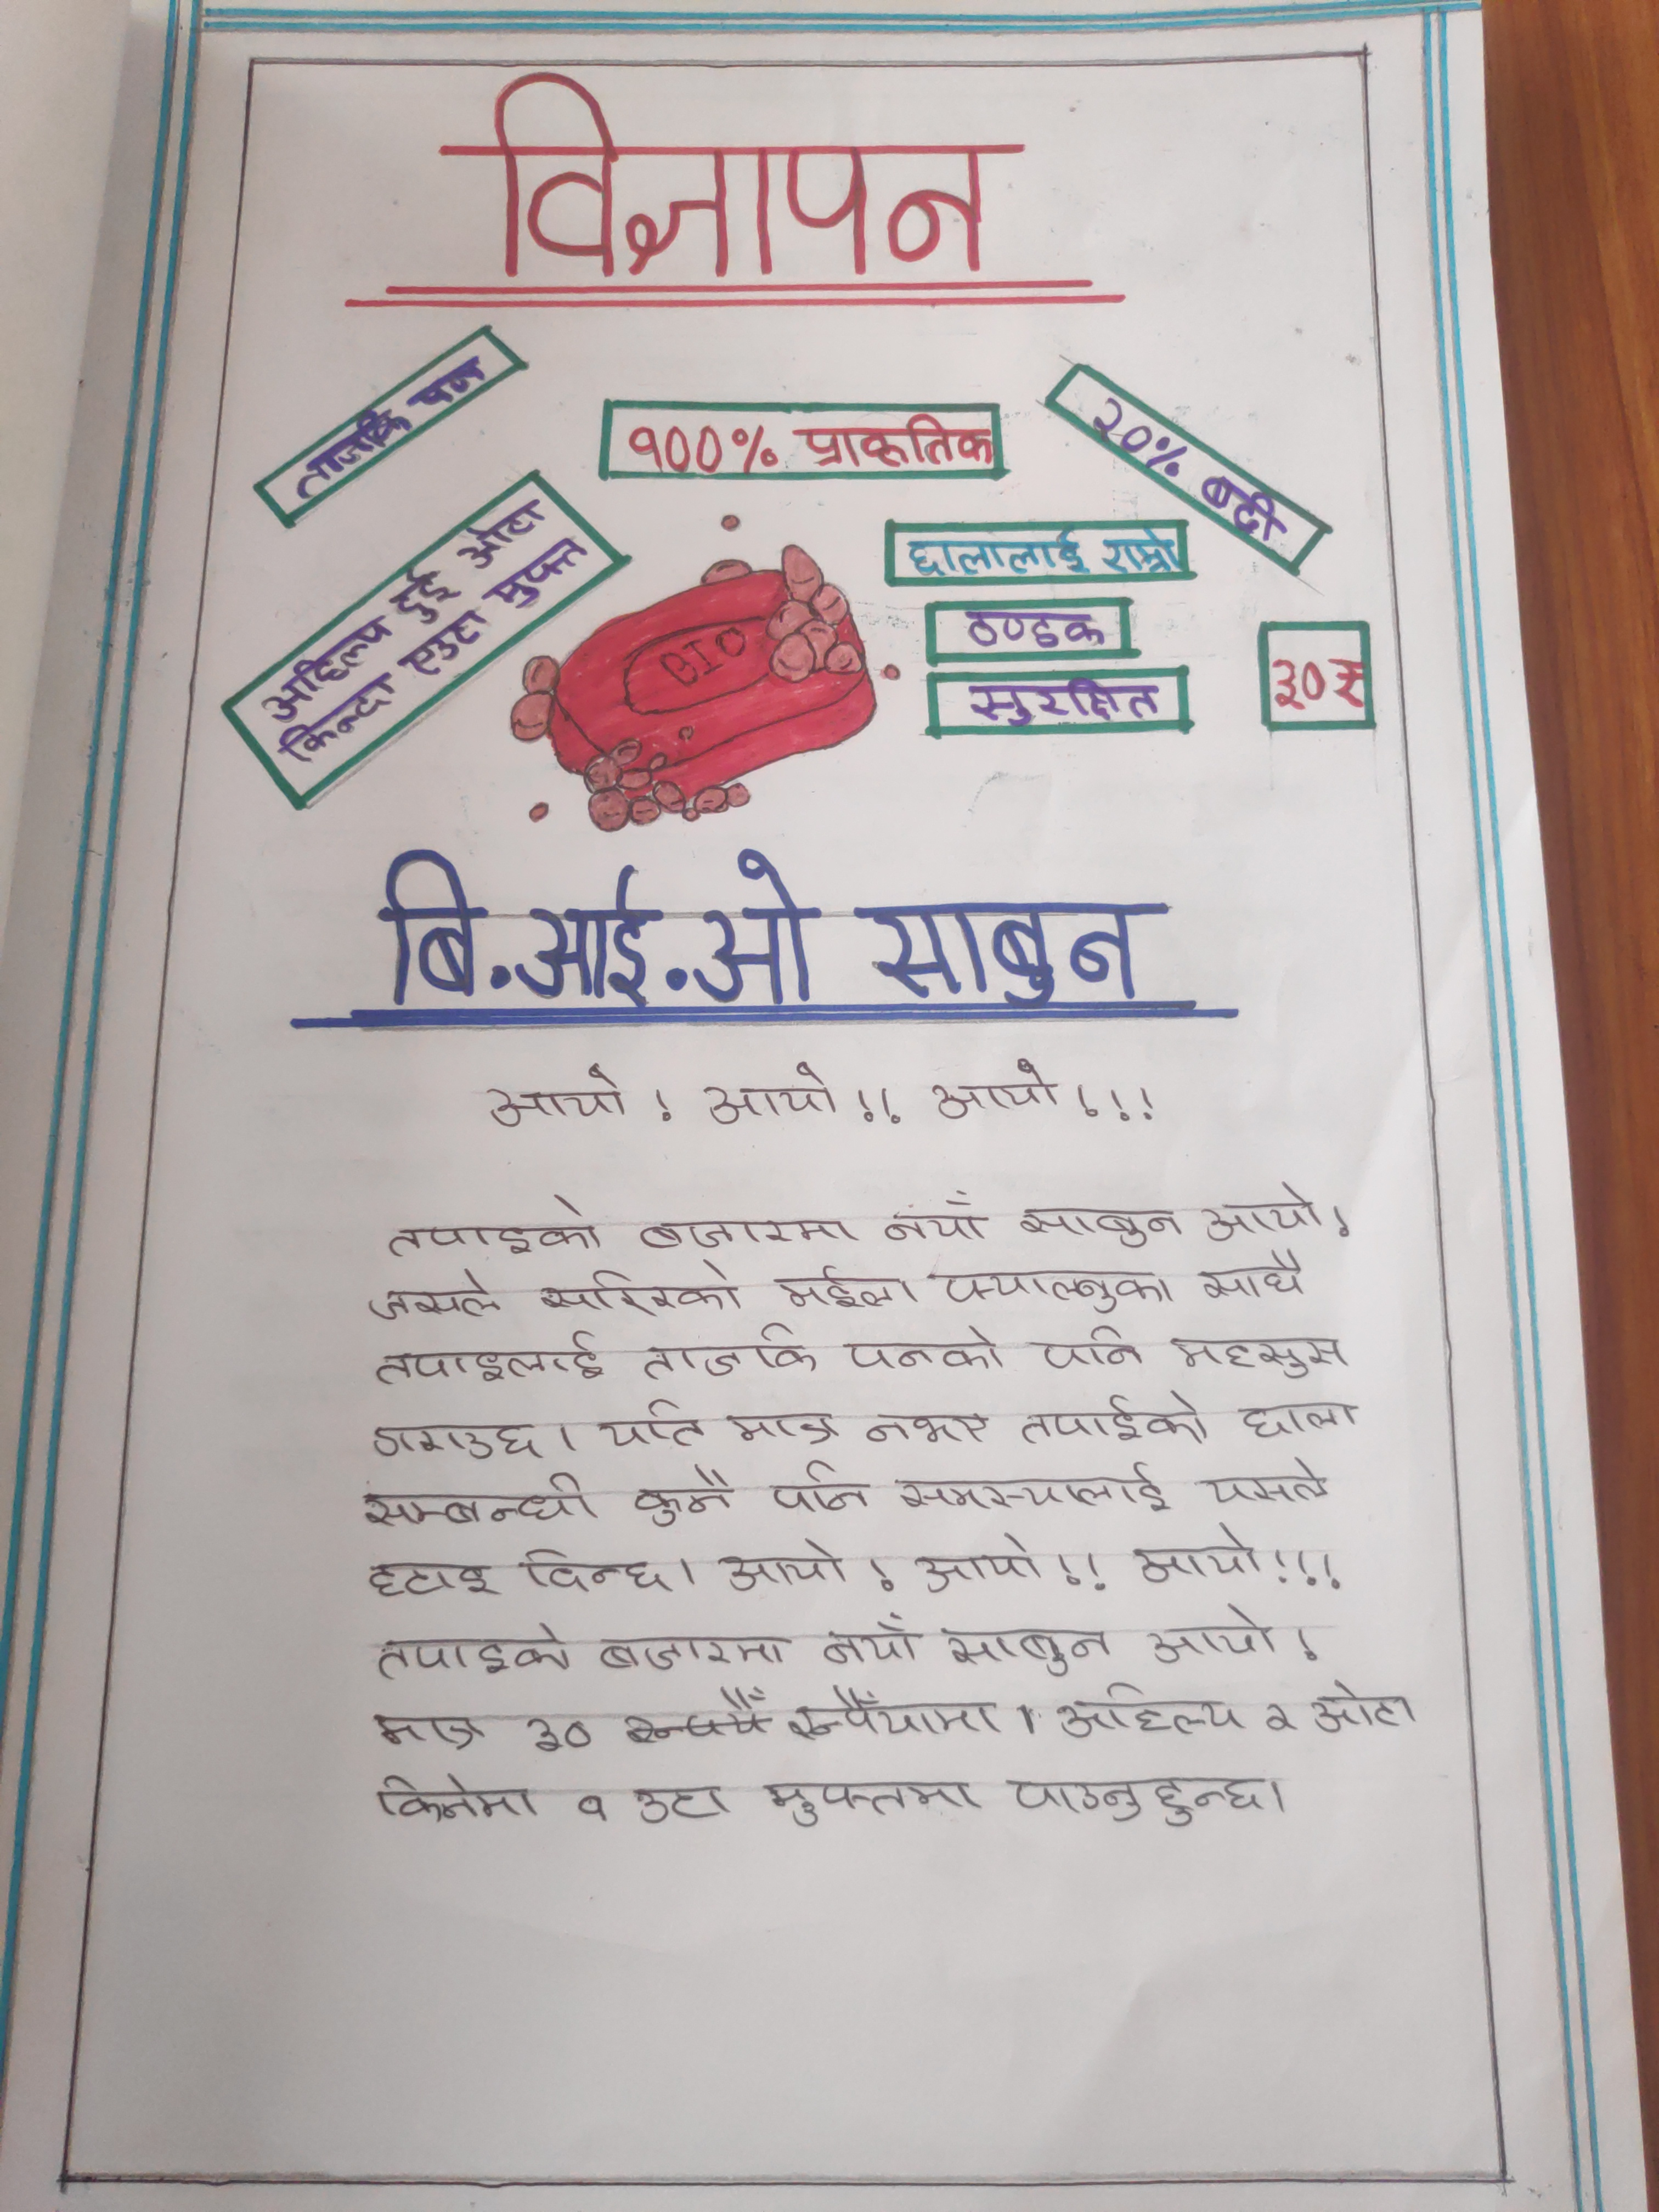text: (437, 66, 1028, 277), (368, 857, 817, 1005), (849, 890, 1164, 1000), (1007, 1766, 1269, 1827), (389, 1191, 606, 1263), (892, 1460, 1180, 1514), (361, 1468, 598, 1533), (366, 1324, 615, 1385), (782, 1684, 1006, 1743), (1018, 1383, 1213, 1449), (371, 1620, 575, 1683), (795, 409, 990, 474), (934, 1261, 1180, 1312), (1054, 1676, 1248, 1738), (291, 402, 413, 495), (634, 1317, 812, 1379), (936, 1611, 1114, 1674), (762, 1770, 981, 1820), (587, 1623, 791, 1677), (371, 1768, 545, 1829), (537, 1268, 746, 1317), (476, 1064, 629, 1129), (633, 1207, 857, 1251), (702, 1064, 842, 1134), (906, 528, 1098, 578), (1164, 1331, 1354, 1381), (1138, 1601, 1279, 1669), (920, 1059, 1063, 1125), (965, 676, 1162, 723), (364, 1264, 502, 1331), (1018, 1195, 1180, 1249), (518, 1541, 671, 1597), (765, 1263, 917, 1318), (1202, 1176, 1324, 1244), (842, 1322, 1006, 1372), (713, 1536, 847, 1597), (368, 1414, 542, 1460), (1134, 1527, 1269, 1585), (918, 1533, 1042, 1592), (589, 1393, 711, 1453), (1300, 1677, 1424, 1735), (627, 413, 732, 481), (629, 1463, 735, 1529), (880, 1188, 1000, 1245), (962, 606, 1108, 653), (1230, 1395, 1370, 1442), (765, 1460, 870, 1522), (368, 1703, 491, 1756), (1201, 463, 1284, 540), (1195, 1245, 1310, 1301), (364, 1555, 497, 1601), (812, 1609, 922, 1663), (727, 1402, 843, 1453), (1208, 1454, 1328, 1503), (1032, 1327, 1155, 1372), (1093, 385, 1159, 469), (854, 1406, 999, 1442), (626, 1778, 732, 1824), (1103, 526, 1185, 578), (401, 364, 493, 408), (526, 1709, 598, 1752), (575, 1785, 603, 1834)
